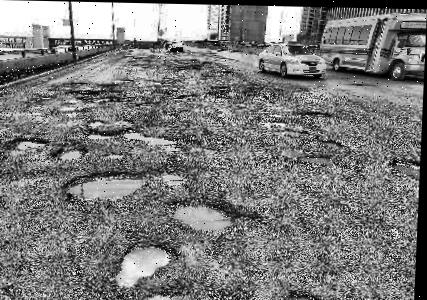pothole: (63, 166, 152, 203), (115, 240, 176, 288), (169, 197, 239, 233), (122, 128, 179, 145), (280, 286, 328, 300), (391, 155, 421, 177), (53, 143, 88, 161), (14, 135, 51, 151), (299, 151, 337, 162), (86, 130, 120, 141), (88, 118, 107, 127)
